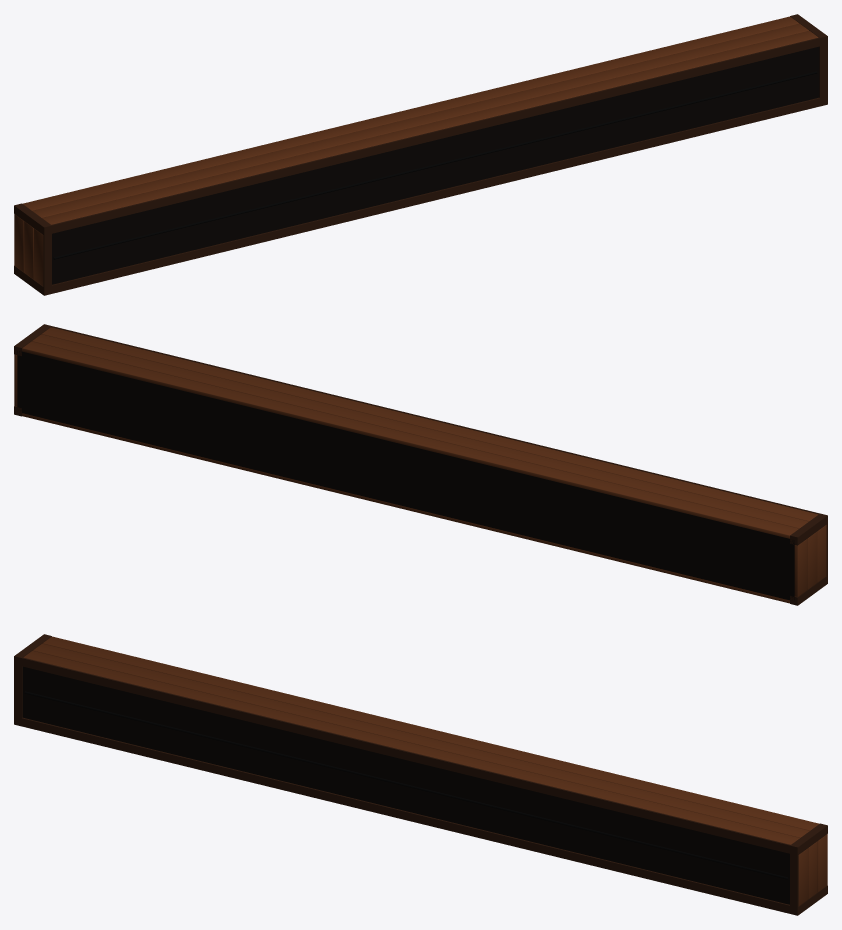
Rendered from planter_bed.obj.
3 renders of one model, top to bottom at view 1: azimuth 30°, elevation 25°; view 2: azimuth 150°, elevation 25°; view 3: azimuth 330°, elevation 25°, orthographic.
Visible parts, largest first — view 1: planter_bed; view 2: planter_bed; view 3: planter_bed.
Boxes of the visible parts, <box> form: planter_bed: <box>14,14,827,295</box>; planter_bed: <box>14,324,827,605</box>; planter_bed: <box>14,634,827,915</box>.
Bounding box in the file's own units: 6 × 0.5 × 0.4.
